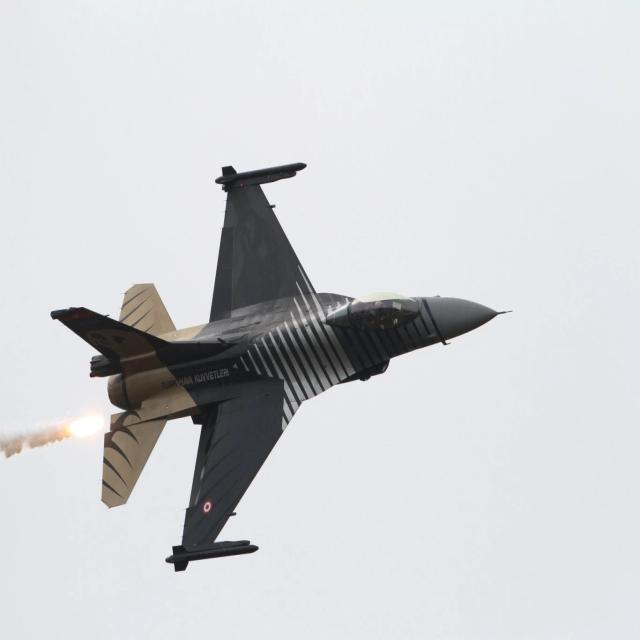MIL_Plane: (50, 162, 513, 572)
